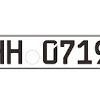0: (42, 38, 58, 65)
1: (77, 39, 92, 65)
7: (60, 39, 74, 65)
9: (94, 38, 100, 66)
H: (6, 39, 23, 65)
